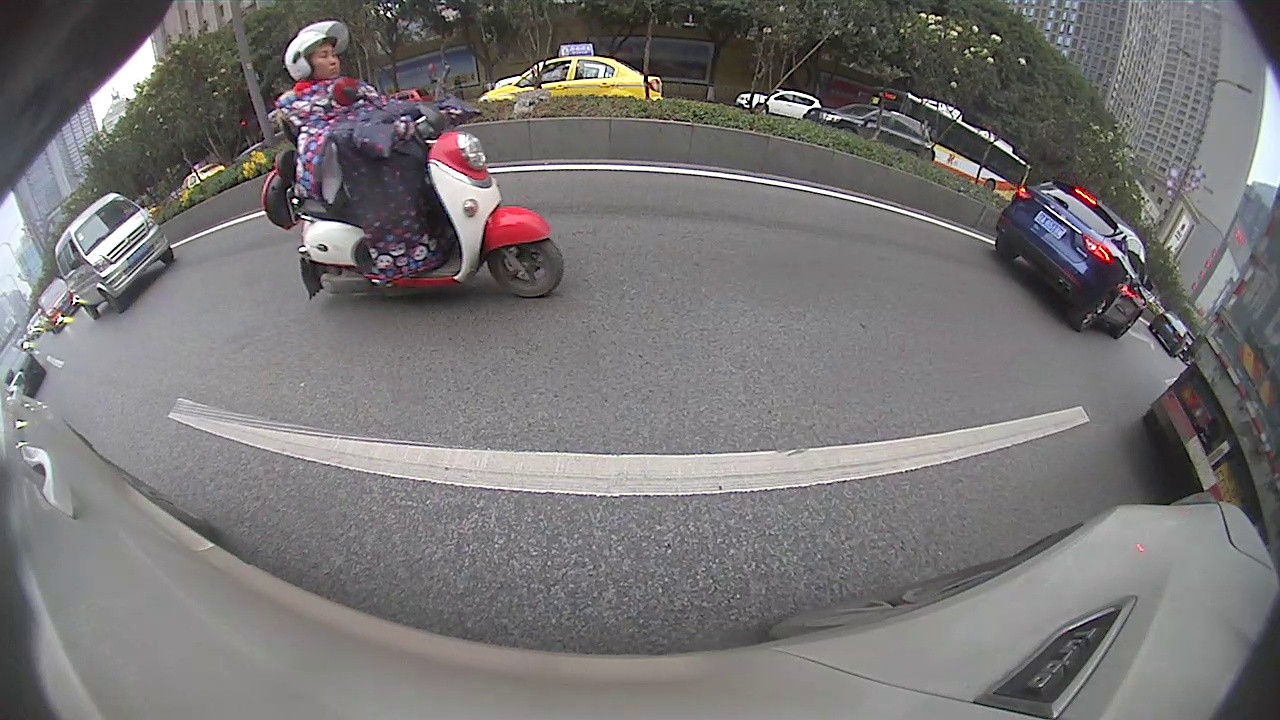car: (991, 178, 1150, 339), (54, 191, 179, 323), (1152, 314, 1190, 359)
front: (489, 232, 566, 301), (99, 289, 125, 313)
rear: (305, 241, 377, 298), (1073, 294, 1115, 331)
rider: (269, 23, 512, 299)
